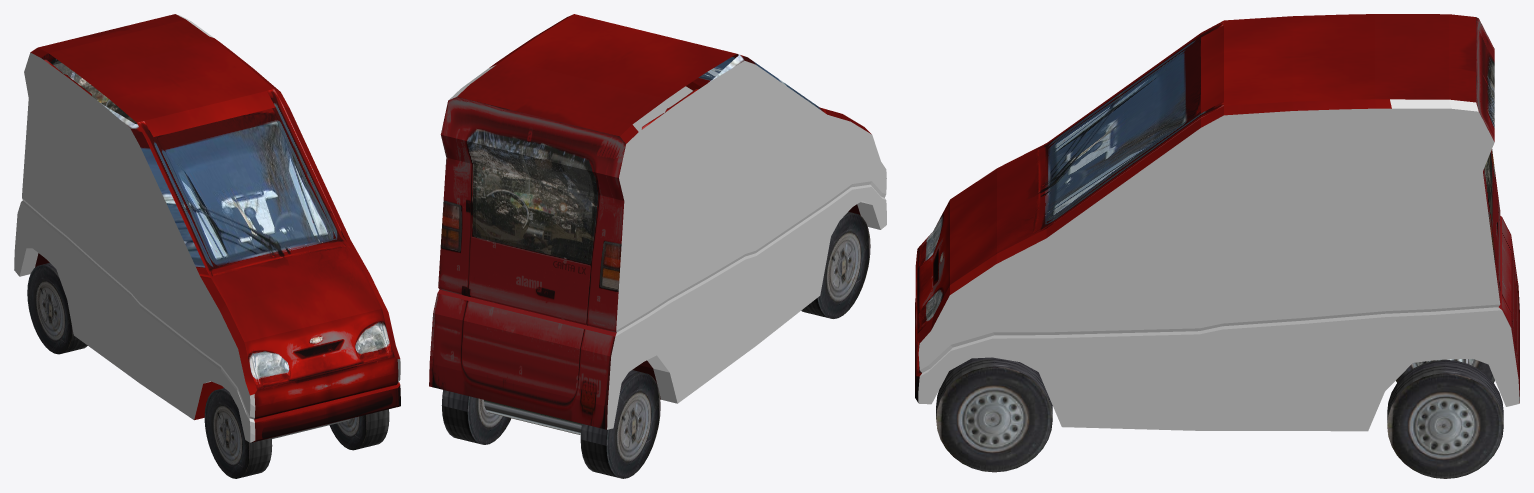
Rendered from Little Thang.fbx.
The picture shows the model from 3 angles, left to right: view 1: azimuth 30°, elevation 25°; view 2: azimuth 150°, elevation 25°; view 3: azimuth 270°, elevation 25°; orthographic projection. The views are drawn at different scales.
Parts seen in each view (by area): view 1: Cube, Cylinder.001; view 2: Cube, Cylinder.001; view 3: Cube, Cylinder.001.
Part boxes in pixels (bbox=[...]): Cube: bbox=[14, 14, 400, 442]; Cylinder.001: bbox=[27, 263, 389, 478]; Cube: bbox=[429, 14, 886, 429]; Cylinder.001: bbox=[441, 212, 870, 478]; Cube: bbox=[915, 14, 1519, 431]; Cylinder.001: bbox=[936, 357, 1503, 478].
Bounding box in the file's own units: 336 × 636 × 921.
